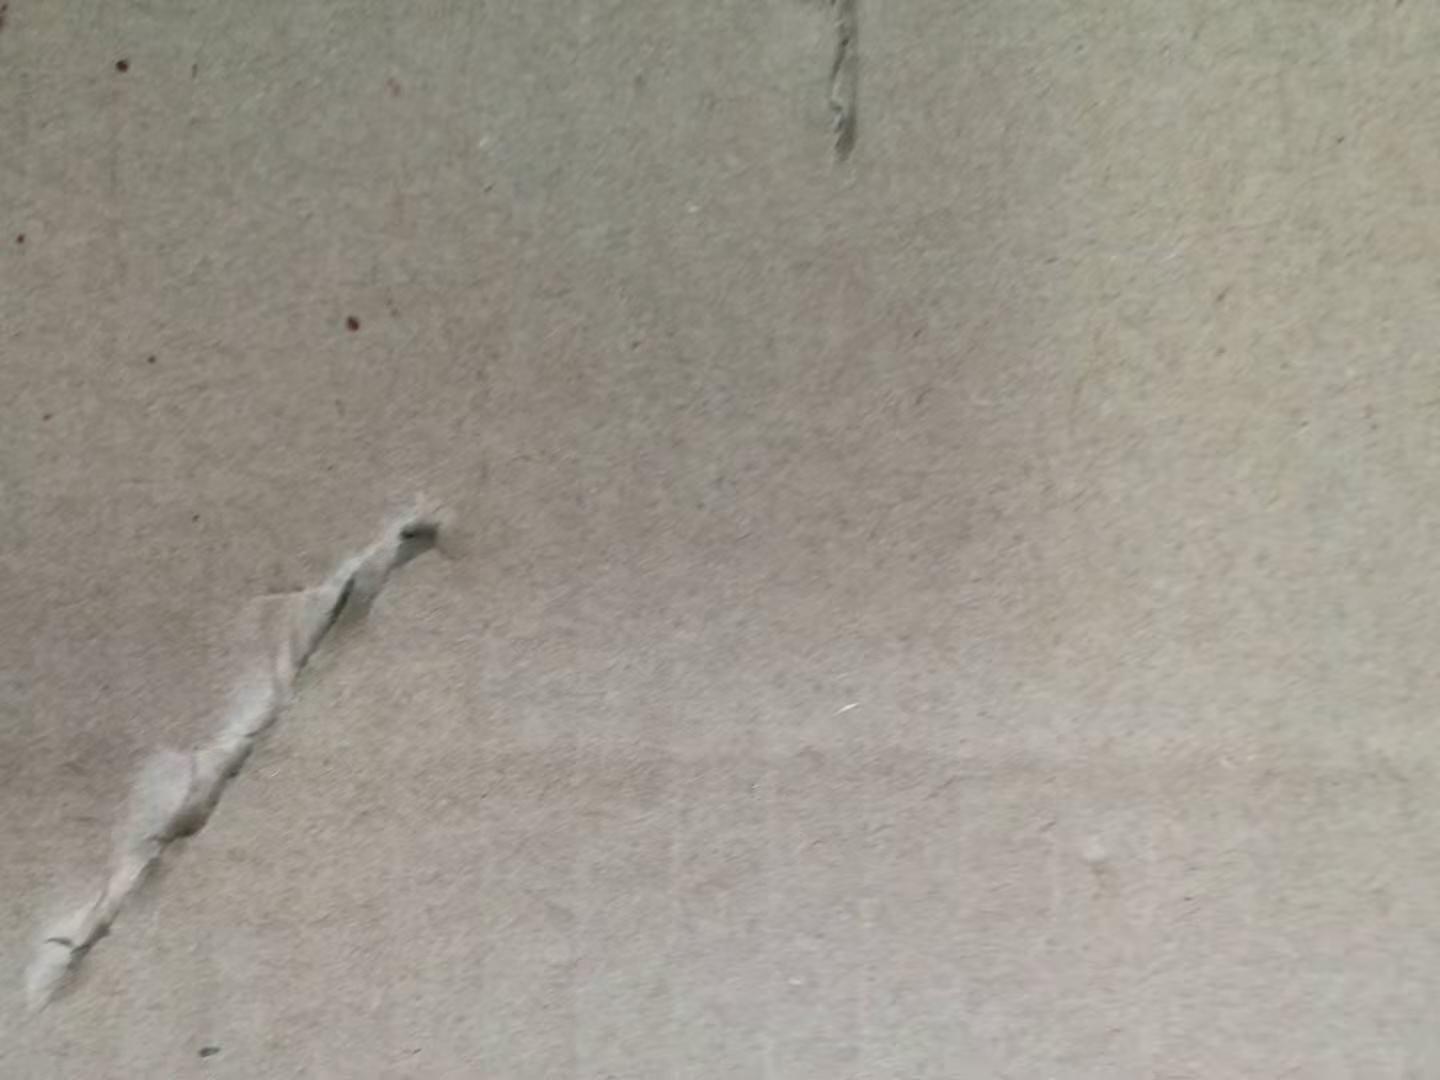defect: (16, 472, 495, 1028), (794, 1, 897, 182)
